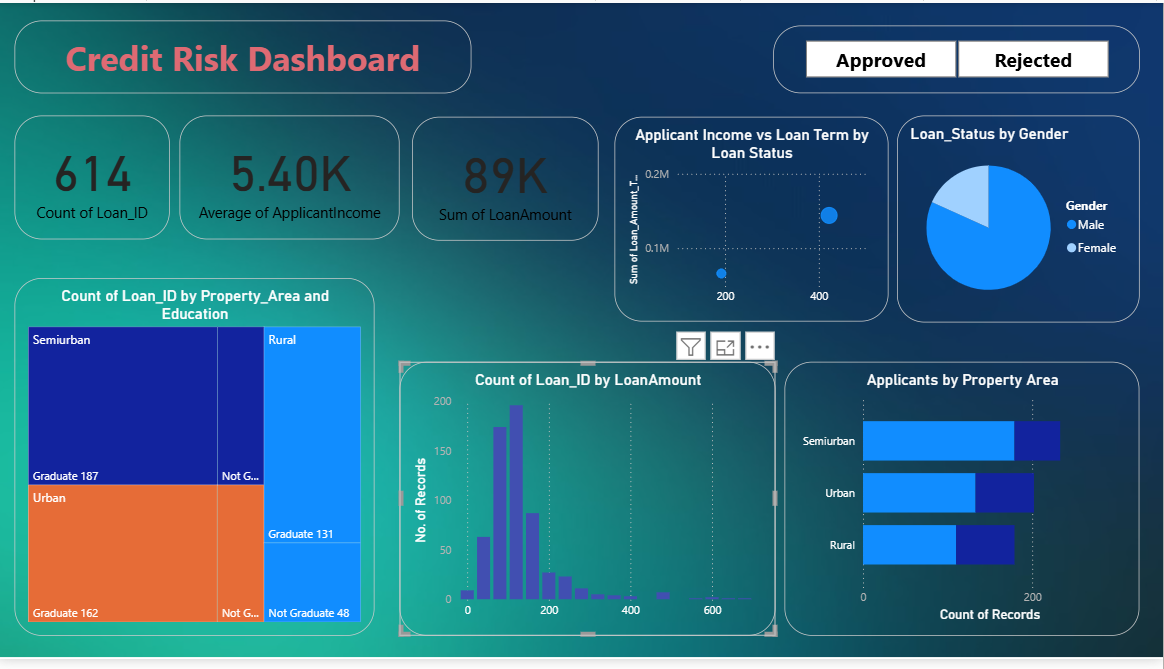

This screenshot's page, from the dashboard's own definition file:
{"tool":"powerbi","page":{"name":"Page 1","canvas":[1280,720],"ordinal":0},"visuals":[{"type":"pieChart","title":"Loan_Status by Gender","fields":{"Category":["credit_data_final_dashboard.Gender"],"Y":["CountNonNull(credit_data_final_dashboard.Loan_Status)"]},"box":[988.1,123.1,266.6,226.8],"z":0},{"type":"card","fields":{"Values":["CountNonNull(credit_data_final_dashboard.Loan_ID)"]},"box":[19.2,123.5,170.2,135.8],"z":1000},{"type":"slicer","fields":{"Values":["credit_data_final_dashboard.Loan_Status"]},"box":[852.1,24.7,402.1,74.1],"z":2000},{"type":"textbox","box":[19.3,19.3,501.9,79.6],"z":3000},{"type":"barChart","title":"Applicants by Property Area","fields":{"Category":["credit_data_final_dashboard.Property_Area"],"Series":["credit_data_final_dashboard.Loan_Status"],"Y":["CountNonNull(credit_data_final_dashboard.Loan_ID)"]},"box":[865,393.3,389.7,300.4],"z":4000},{"type":"card","fields":{"Values":["Avg(credit_data_final_dashboard.ApplicantIncome)"]},"box":[200.3,123.5,241.5,135.8],"z":5000},{"type":"card","fields":{"Values":["Sum(credit_data_final_dashboard.LoanAmount)"]},"box":[455.6,124.9,204.5,135.8],"z":6000},{"type":"columnChart","title":"Count of Loan_ID by LoanAmount","fields":{"Category":["credit_data_final_dashboard.LoanAmount (bins)"],"Y":["CountNonNull(credit_data_final_dashboard.Loan_ID)"]},"box":[441.9,393.8,413,300.5],"z":7000},{"type":"treemap","fields":{"Group":["credit_data_final_dashboard.Property_Area"],"Details":["credit_data_final_dashboard.Education"],"Values":["CountNonNull(credit_data_final_dashboard.Loan_ID)"]},"box":[19.2,301.9,395.2,392.5],"z":8000},{"type":"scatterChart","title":"Applicant Income vs Loan Term by Loan Status","fields":{"X":["CountNonNull(credit_data_final_dashboard.ApplicantIncome)"],"Size":["Sum(credit_data_final_dashboard.Credit_History)"],"Category":["credit_data_final_dashboard.Loan_Status"],"Y":["Sum(credit_data_final_dashboard.Loan_Amount_Term)"]},"box":[677.9,124.9,300.5,225],"z":9000}]}

Visuals, with their boxes in screenshot pixels (x1, y1, x2, y2), scaled from the page's 1280x720 canvas onto the 1164x669 screenshot:
"Loan_Status by Gender" pieChart: <box>899,114,1141,325</box>
card - CountNonNull(credit_data_final_dashboard.Loan_ID): <box>17,115,172,241</box>
slicer - credit_data_final_dashboard.Loan_Status: <box>775,23,1141,92</box>
textbox: <box>18,18,474,92</box>
"Applicants by Property Area" barChart: <box>787,365,1141,645</box>
card - Avg(credit_data_final_dashboard.ApplicantIncome): <box>182,115,402,241</box>
card - Sum(credit_data_final_dashboard.LoanAmount): <box>414,116,600,242</box>
"Count of Loan_ID by LoanAmount" columnChart: <box>402,366,777,645</box>
treemap - credit_data_final_dashboard.Property_Area x credit_data_final_dashboard.Education: <box>17,281,377,645</box>
"Applicant Income vs Loan Term by Loan Status" scatterChart: <box>616,116,890,325</box>
